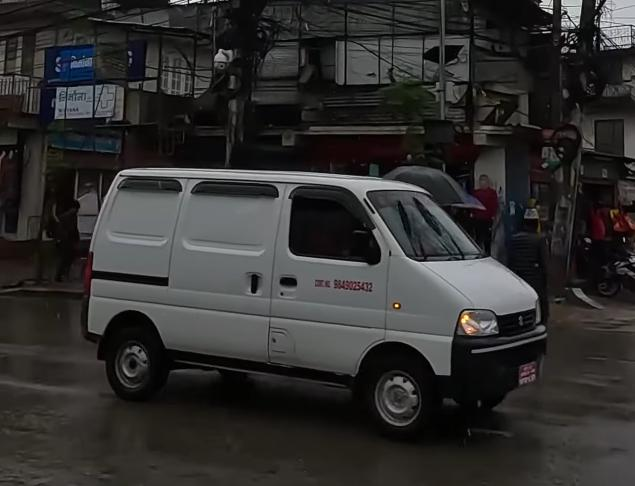van: (78, 153, 554, 438)
